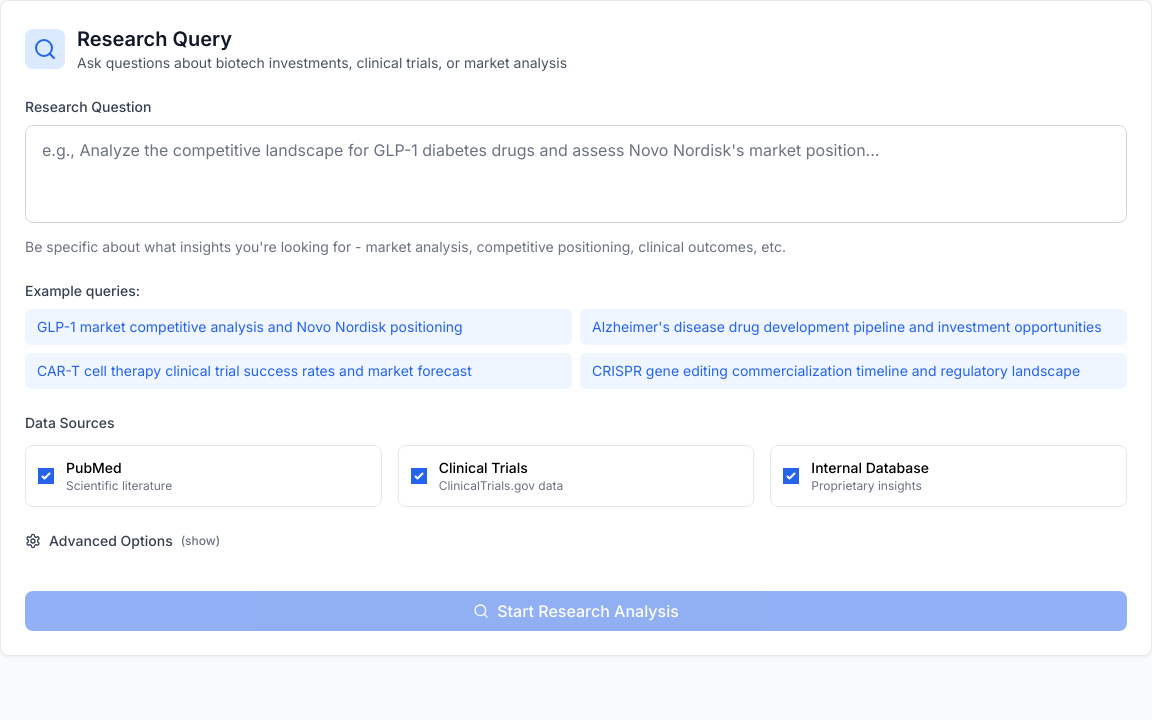
Test: Enhanced QueryBuilder › should show M3/M4 advanced options when expanded
This screenshot has width=1152, height=720.
Note: Click advanced options
Click the button "Advanced Options (show)": (123, 541) [25, 531, 220, 551]
(page scrolled)
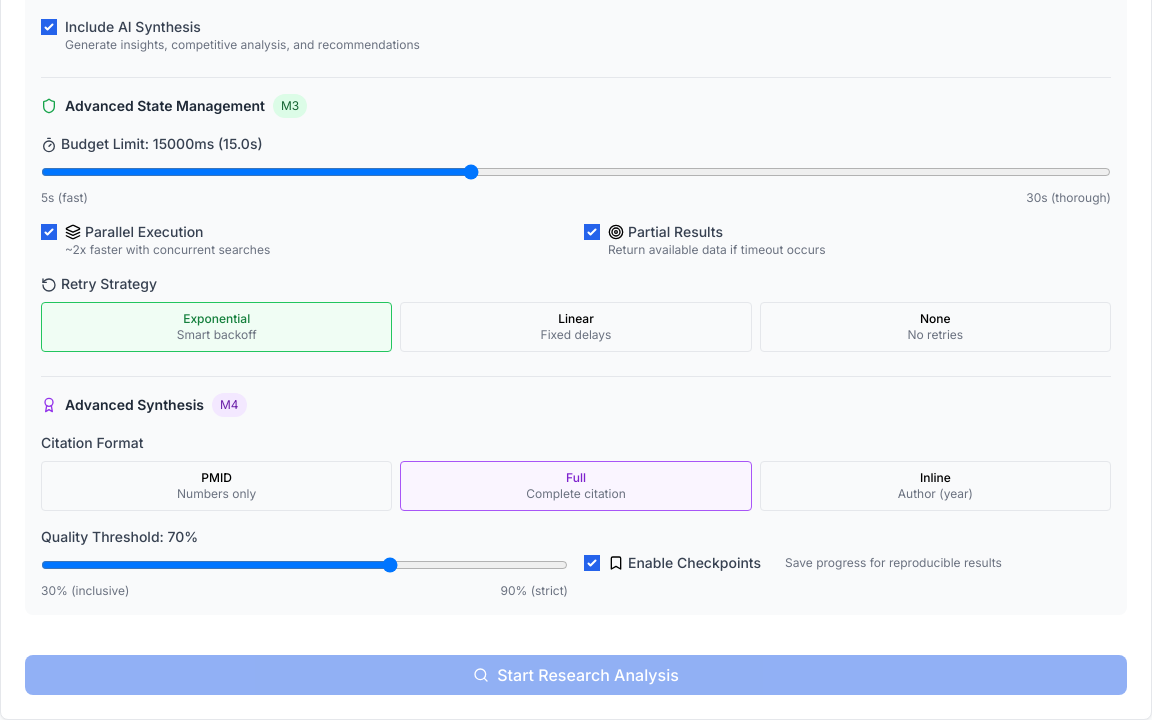
Check: the heading "Advanced State Management" is shown, box [65, 96, 265, 116]
Check: the text "Budget Limit: 15000ms (15.0s)" is shown, box [41, 135, 263, 153]
Check: the text "Parallel Execution" is shown, box [85, 222, 204, 242]
